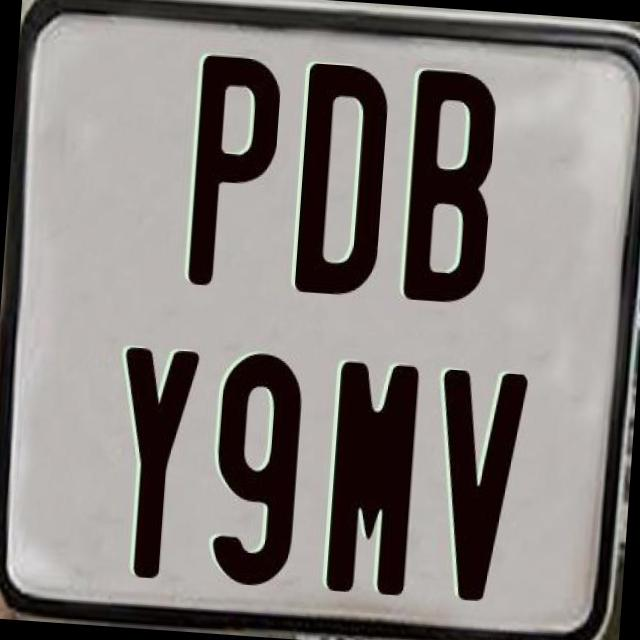9: (207, 348, 309, 590)
B: (402, 67, 500, 311)
D: (294, 58, 398, 292)
M: (326, 356, 428, 596)
P: (187, 52, 286, 292)
V: (424, 367, 530, 605)
Y: (108, 347, 200, 580)
